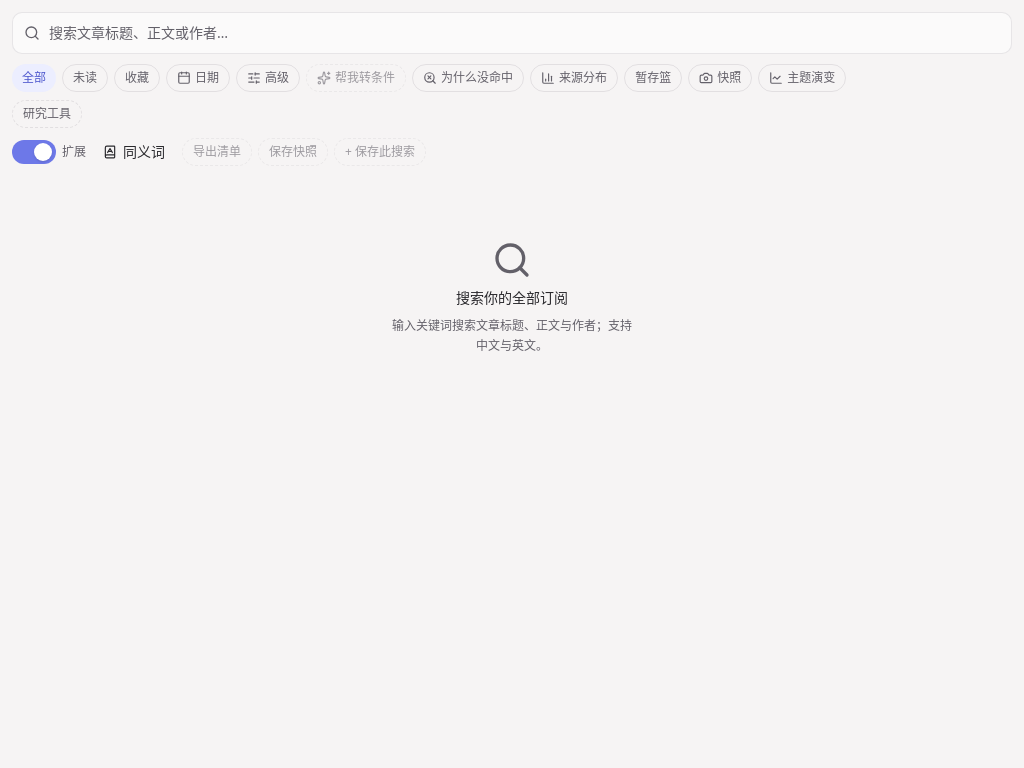
N149 主题演变时间线（SearchPage） › 同参 GET timeline；月份柱状与批注卡片渲染
In the search field labelled "搜索": (512, 33) [12,12,1012,54], type "rust"
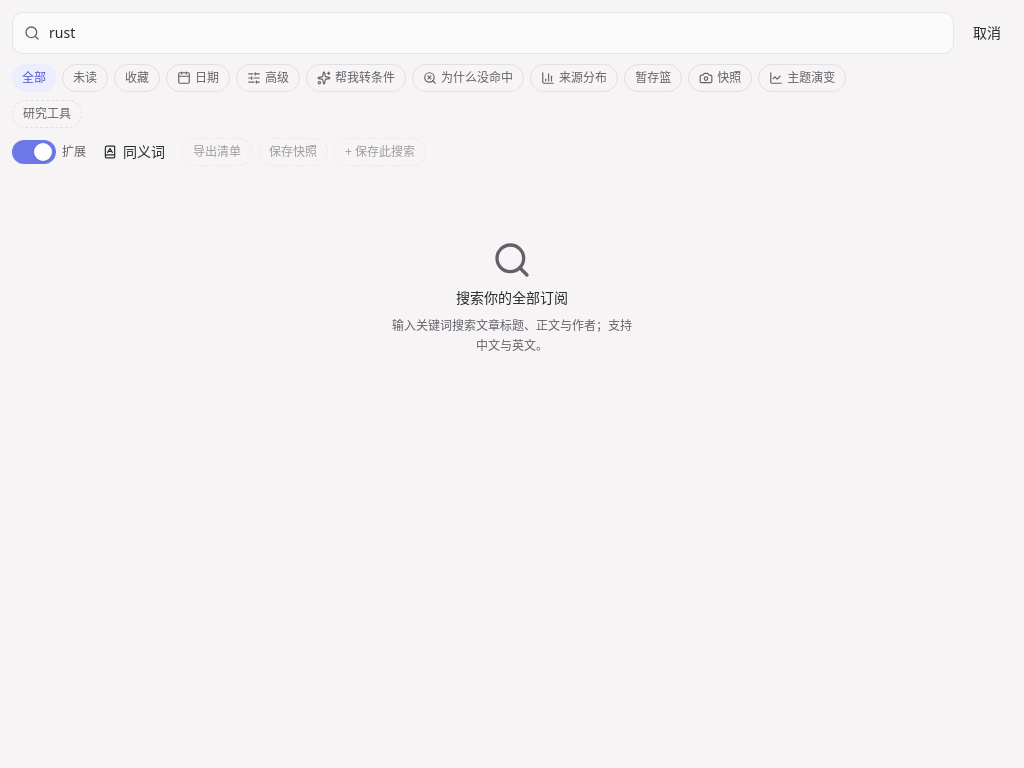
Press Enter in the search field named "搜索", box [12,12,954,54]
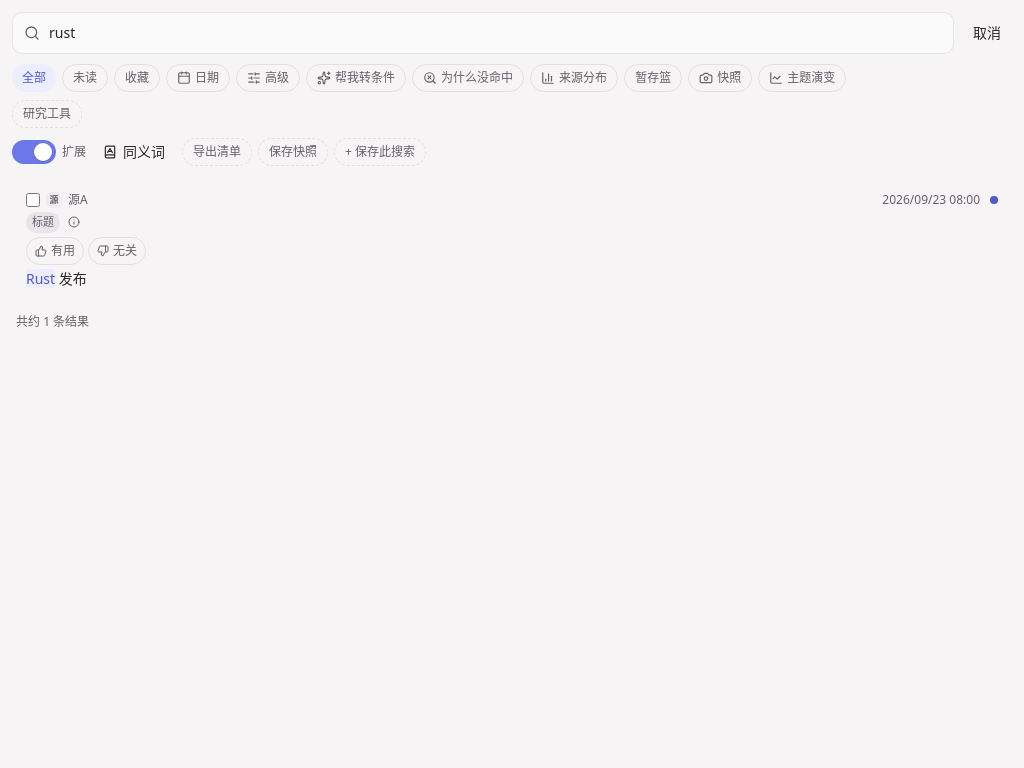
Click the button with test id "timeline-toggle": click(802, 78) [758,64,846,92]
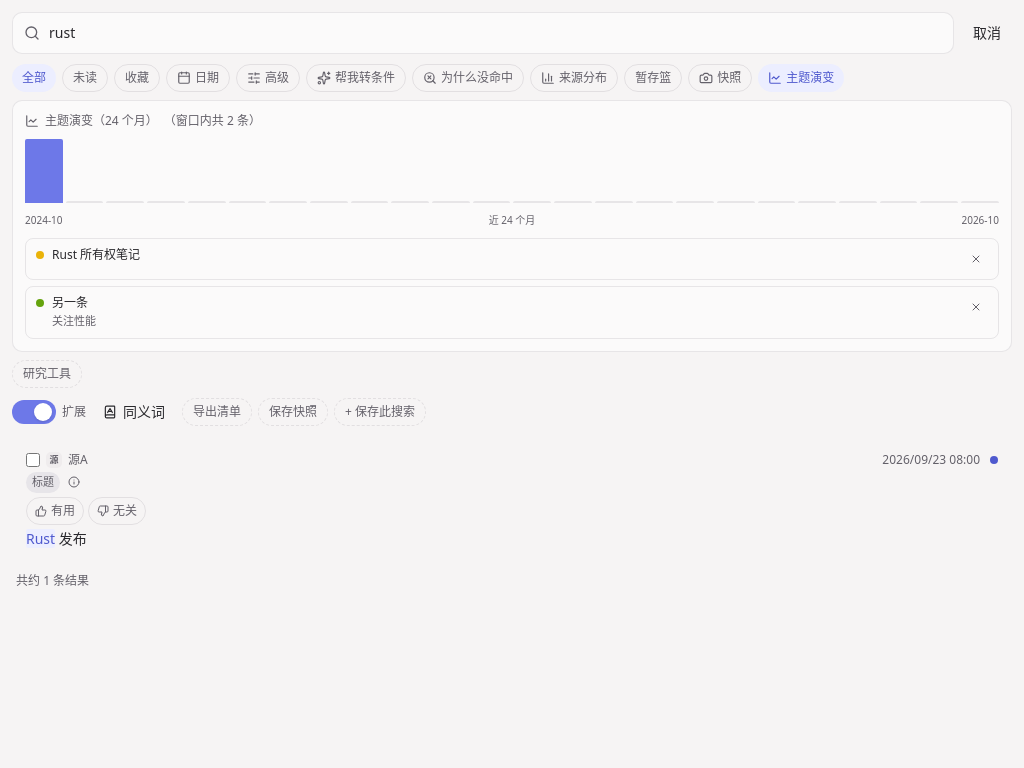
Expected: the element with test id "timeline-panel" is shown, [12,100,1012,352]
Expected: the picture with test id "timeline-months" is shown, [25,139,999,203]
Expected: the element titled "2026-09：2 条" is shown, [25,139,63,203]
